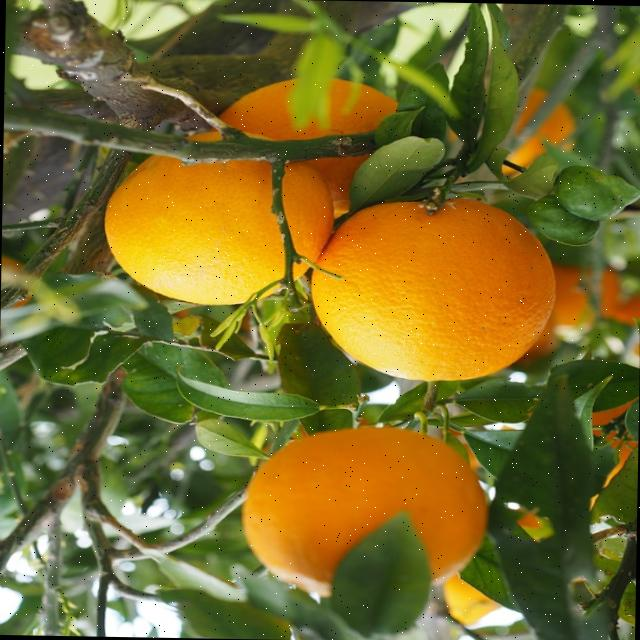Jeruk: (308, 194, 558, 384), (239, 424, 491, 602), (102, 128, 336, 308), (215, 76, 401, 216), (502, 86, 578, 180), (551, 264, 621, 343), (527, 194, 601, 248), (442, 572, 502, 628)
